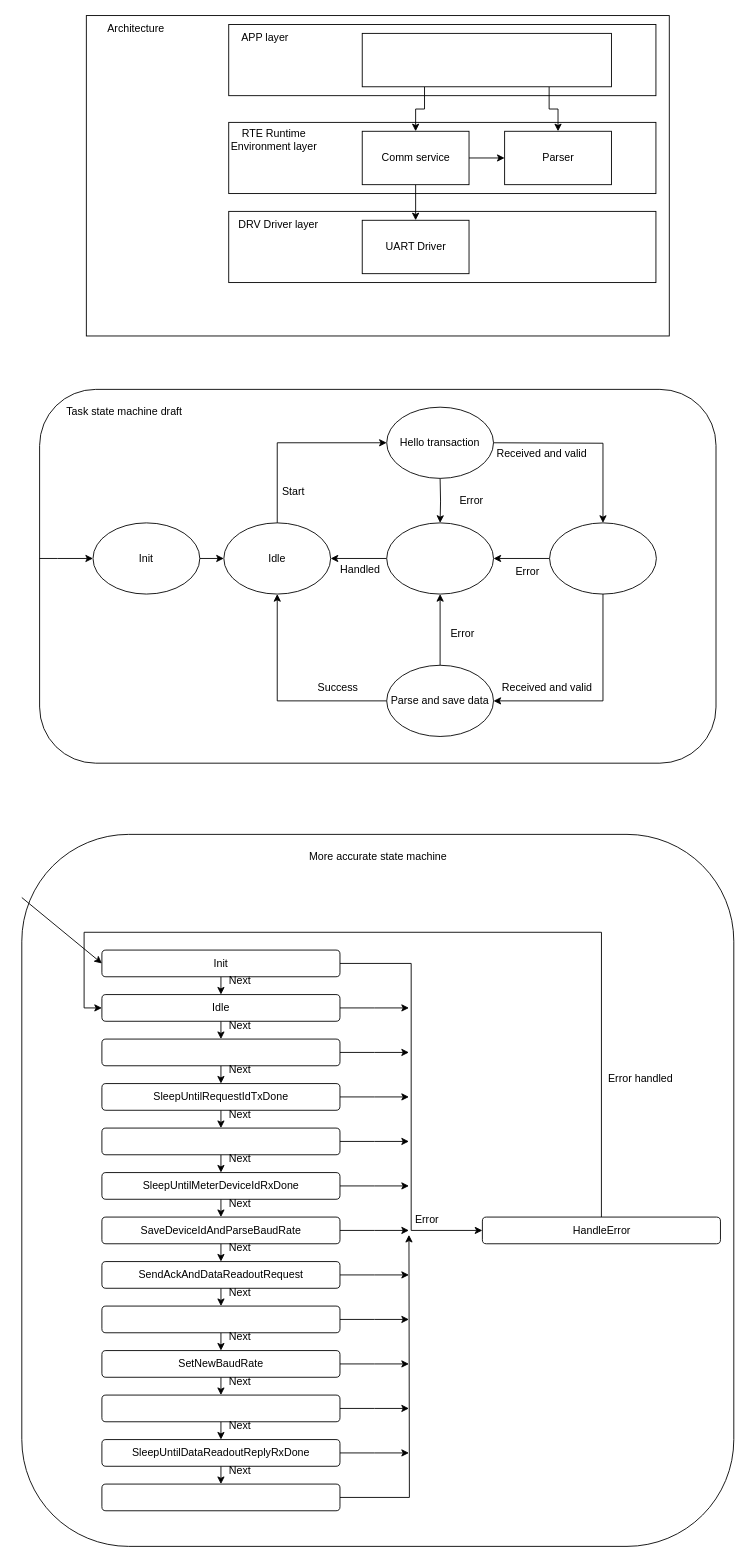
Image size: 749x1562. Some labels were removed from this diagram. The centre of each missing label's shape, as x and y in pixels:
DataReadout transaction: pixel 602 558
Handle error: pixel 440 558
ParseAndSaveData: pixel 220 1497
SendRequestId: pixel 220 1052
SleepUntilAckAndDataReadoutRequestTxDone: pixel 220 1319
StartListeningToDataReadoutReply: pixel 220 1408
StartListeningToMeterDeviceIdReply: pixel 220 1141
Task: pixel 486 59
